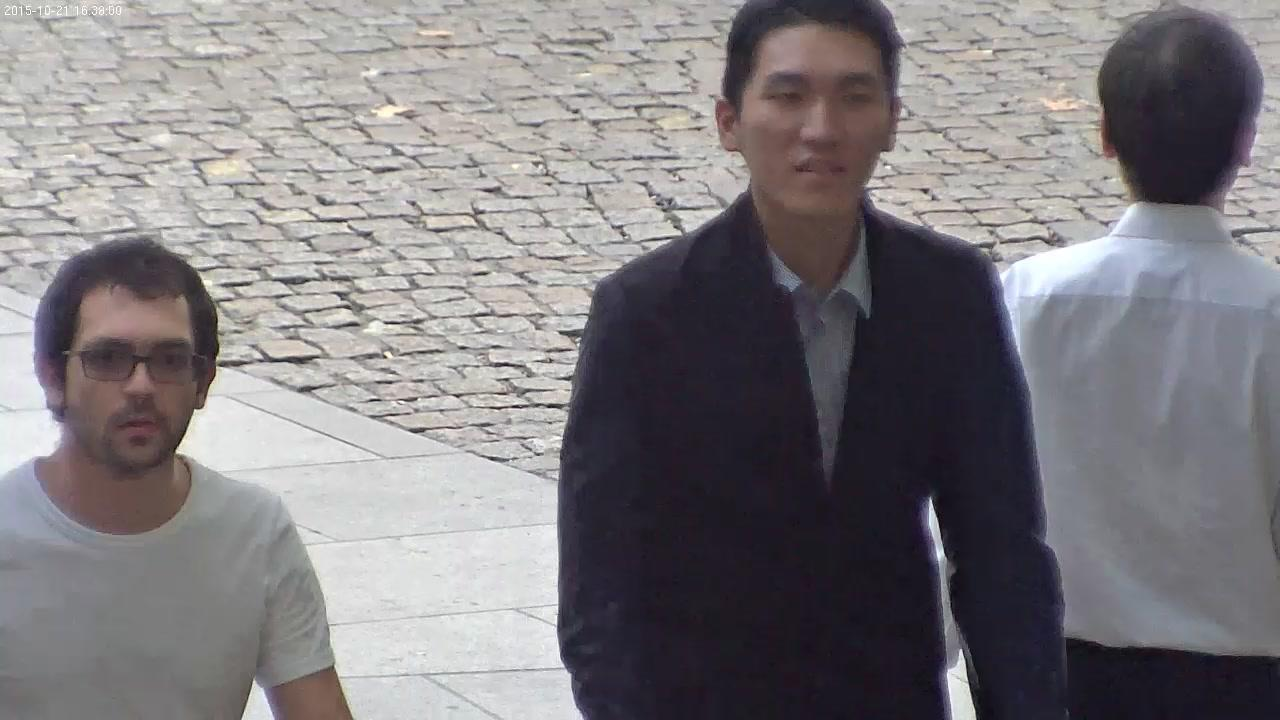person: (555, 0, 1073, 720), (924, 7, 1280, 720), (0, 235, 353, 720)
